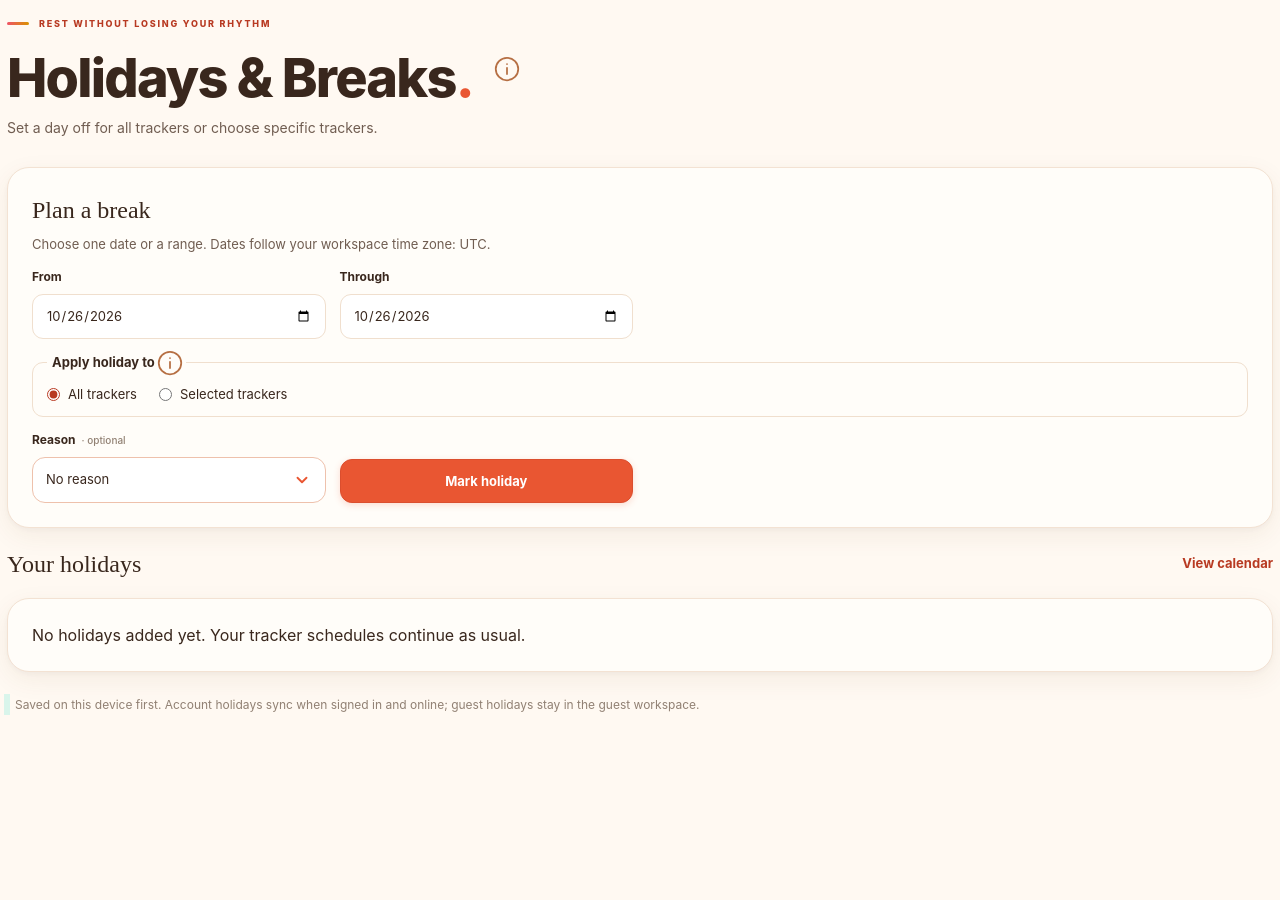
Test: Manage Holidays › puts holiday guidance in the help popup and removes the redundant About card
This screenshot has width=1280, height=900.
Expected: the heading "Holidays & Breaks." is shown, 7,48 -> 473,107
Click the button named "More about Holidays & Breaks".
click(507, 69)  # box 485,47 -> 529,91
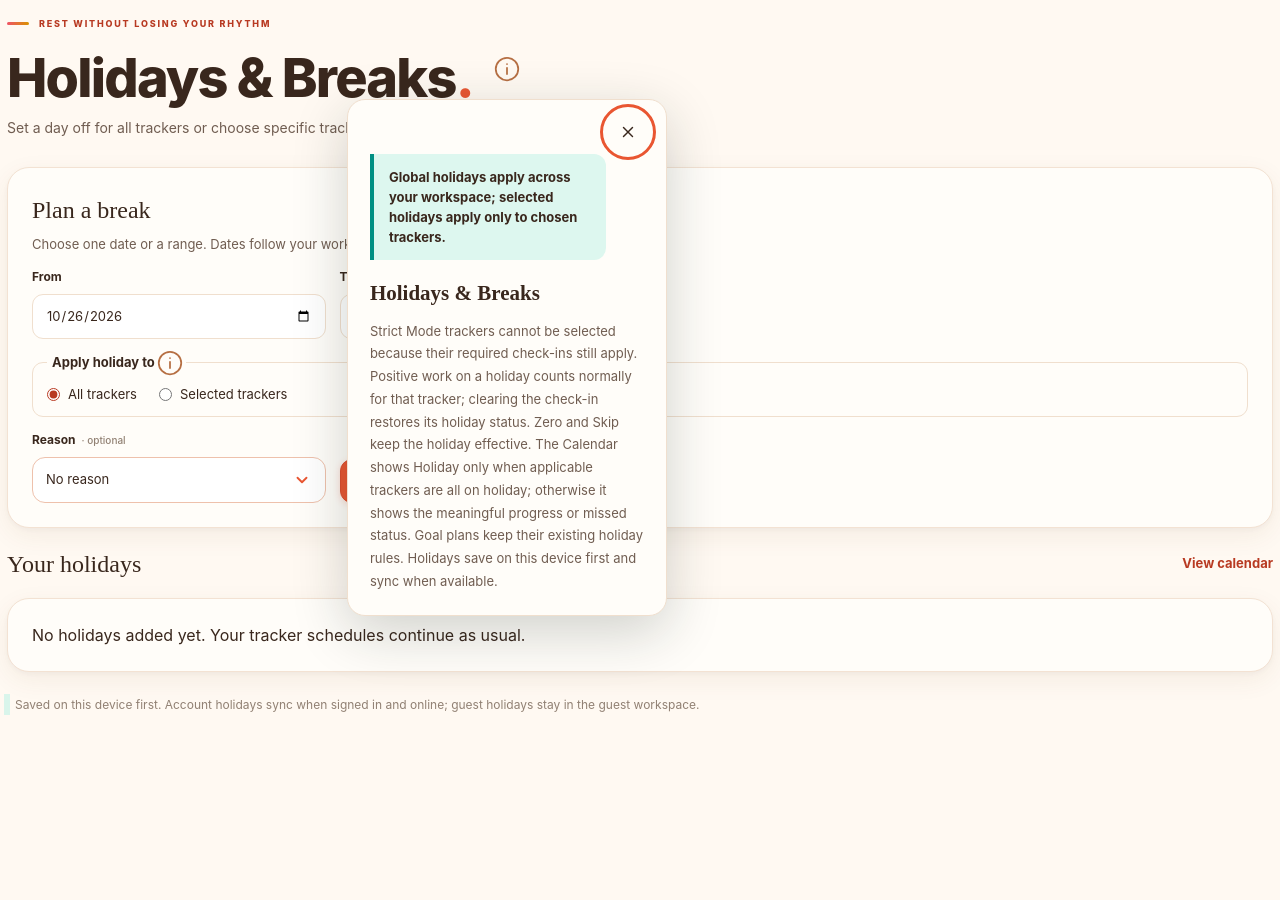
Expected: the dialog named "Holidays & Breaks" shows "Global holidays apply across your workspace", 389,169 -> 577,245
Expected: the dialog named "Holidays & Breaks" shows "Strict Mode trackers cannot be selected", 370,323 -> 643,589
Expected: the dialog named "Holidays & Breaks" shows "clearing the check-in restores its holiday status", 370,323 -> 643,589
